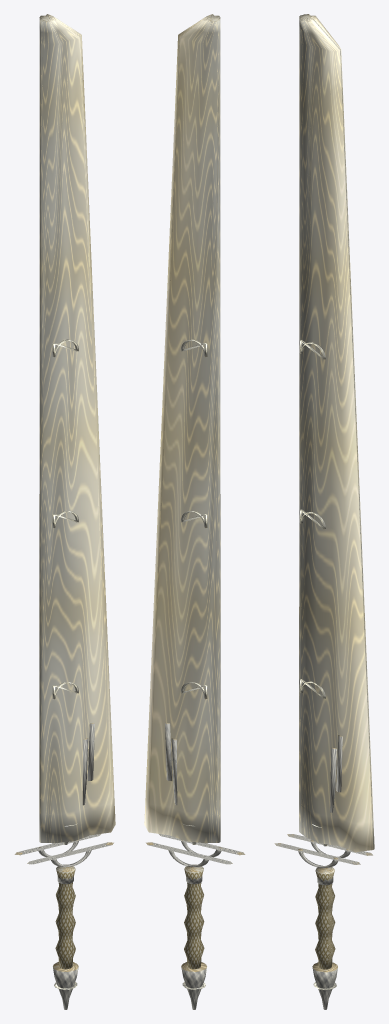
Rendered from sword_12_archangel_verdict.glb.
3 renders of one model, left to right at view 1: azimuth 30°, elevation 25°; view 2: azimuth 150°, elevation 25°; view 3: azimuth 330°, elevation 25°, orthographic.
Visible parts, largest first — view 1: Blade_ArchangelVerdict, Grip_ArchangelSilk, Guard_CathedralFacade, Pommel_VerdictGemBulb, Wings_Archangel, Emboss_CathedralArches; view 2: Blade_ArchangelVerdict, Grip_ArchangelSilk, Guard_CathedralFacade, Pommel_VerdictGemBulb, Wings_Archangel, Emboss_CathedralArches; view 3: Blade_ArchangelVerdict, Grip_ArchangelSilk, Guard_CathedralFacade, Pommel_VerdictGemBulb, Wings_Archangel, Emboss_CathedralArches.
Part boxes in pixels (x1,y1,x2,y2): Blade_ArchangelVerdict: (39,14,115,843); Grip_ArchangelSilk: (55,864,75,969); Guard_CathedralFacade: (14,834,113,866); Pommel_VerdictGemBulb: (53,962,78,1009); Wings_Archangel: (82,723,94,805); Emboss_CathedralArches: (52,339,78,699); Blade_ArchangelVerdict: (144,14,220,843); Grip_ArchangelSilk: (184,864,204,969); Guard_CathedralFacade: (146,834,245,866); Pommel_VerdictGemBulb: (181,962,206,1009); Wings_Archangel: (165,723,177,805); Emboss_CathedralArches: (181,339,207,699); Blade_ArchangelVerdict: (299,14,374,852); Grip_ArchangelSilk: (315,867,335,969); Guard_CathedralFacade: (274,834,372,867); Pommel_VerdictGemBulb: (312,962,337,1009); Wings_Archangel: (330,735,342,812); Emboss_CathedralArches: (299,340,325,698).
Bounding box in the file's own units: 0.2577 × 2.6 × 0.0787.
Materials: 1 (1 with a texture image).
